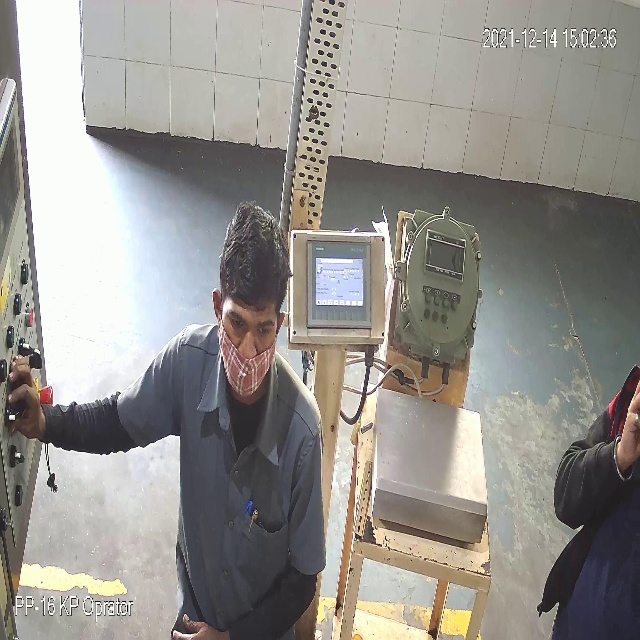Sin_gafas: (225, 306, 278, 343)
